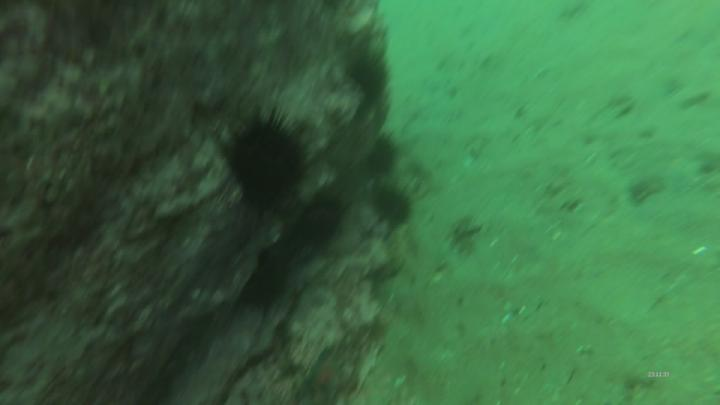echinus: (224, 116, 304, 214), (242, 249, 290, 311), (372, 178, 424, 235), (297, 191, 346, 245), (349, 43, 390, 96), (368, 134, 402, 176)
starfish: (306, 355, 352, 402)
